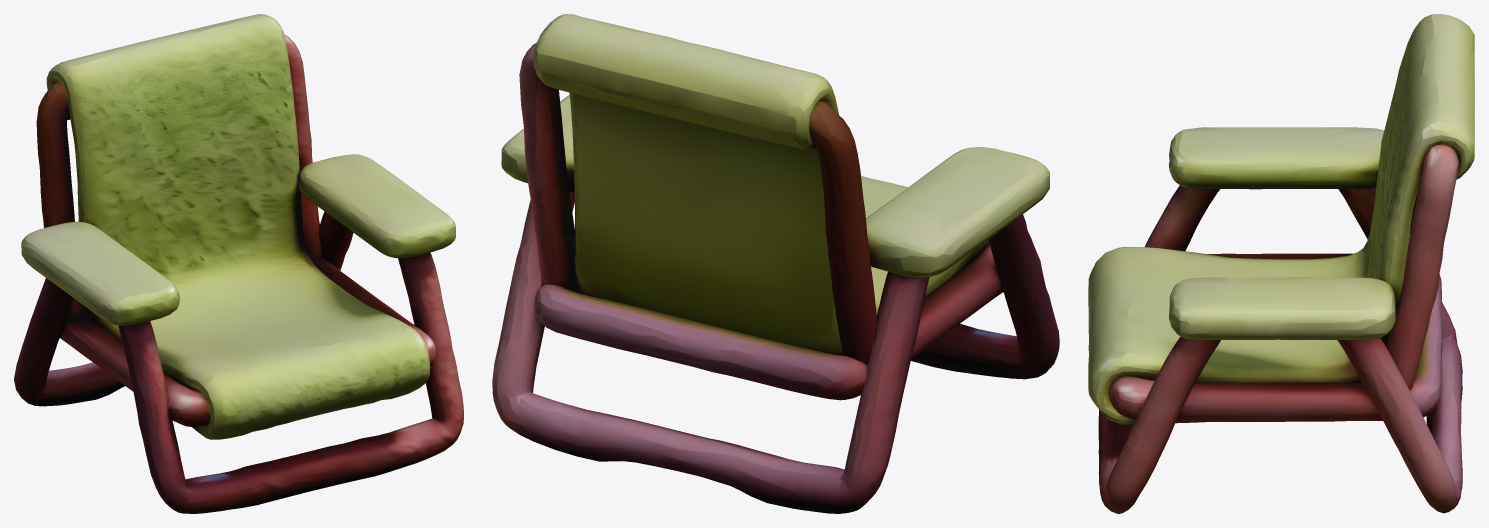
File: Chair.glb
3 renders of one model, left to right at view 1: azimuth 30°, elevation 25°; view 2: azimuth 150°, elevation 25°; view 3: azimuth 270°, elevation 25°, orthographic. The views are drawn at different scales.
Visible parts, largest first — view 1: model; view 2: model; view 3: model.
Part boxes in pixels (left/top/right/bottom): model: left=14, top=14, right=463, bottom=513; model: left=492, top=14, right=1059, bottom=513; model: left=1088, top=14, right=1474, bottom=513.
Size of the model in its own units: 1.87 by 1.76 by 1.6.
1 material, 1 textured.
